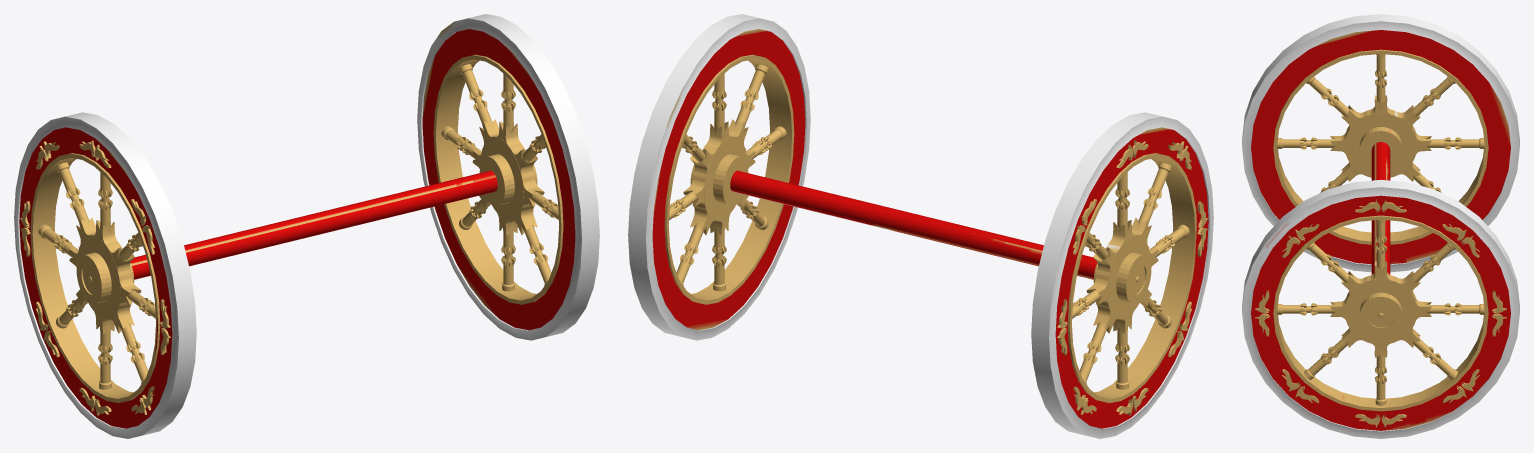
File: Wheels.fbx
3 renders of one model, left to right at view 1: azimuth 30°, elevation 25°; view 2: azimuth 150°, elevation 25°; view 3: azimuth 270°, elevation 25°, orthographic. The views are drawn at different scales.
Parts seen in each view (by area): view 1: Cube.001; view 2: Cube.001; view 3: Cube.001.
Part boxes in pixels (bbox=[...]): Cube.001: bbox=[14, 14, 599, 438]; Cube.001: bbox=[628, 14, 1213, 438]; Cube.001: bbox=[1242, 14, 1519, 438].
Bounding box in the file's own units: 465 × 305 × 305.
